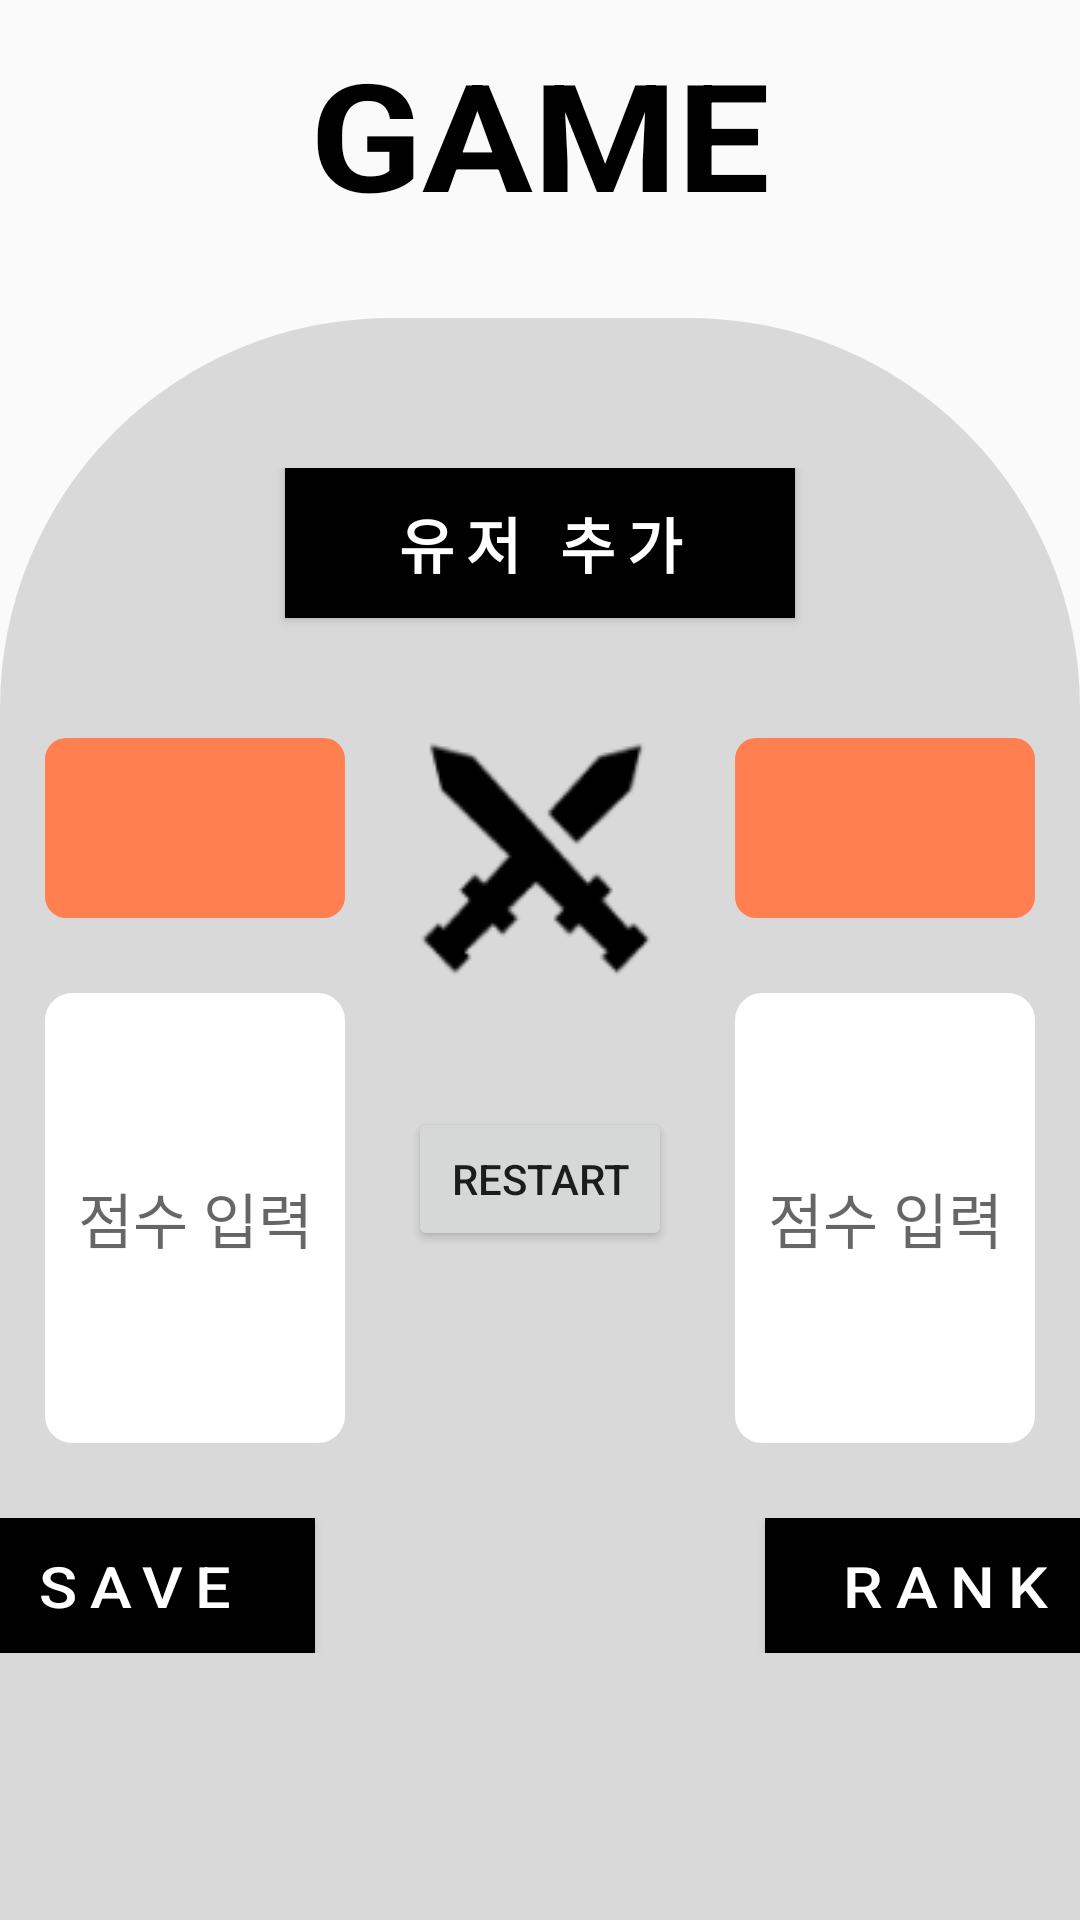

Icon click points for this 1080x1920 phone screenshot, format (x=x, y=y):
battle: (x=536, y=858)
